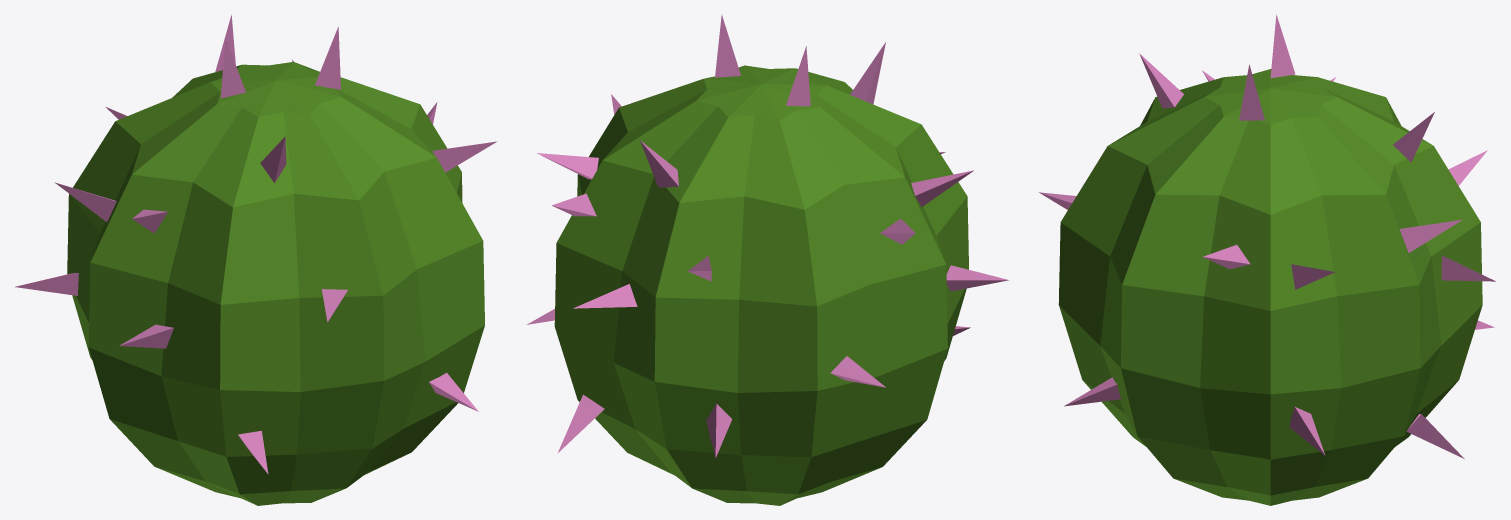
The model's file is Cactus_15_B.fbx.
3 renders of one model, left to right at view 1: azimuth 30°, elevation 25°; view 2: azimuth 150°, elevation 25°; view 3: azimuth 270°, elevation 25°, orthographic. The views are drawn at different scales.
Visible parts, largest first — view 1: Cactus_15_B; view 2: Cactus_15_B; view 3: Cactus_15_B.
Part boxes in pixels (<box>): Cactus_15_B: <box>15,15,497,505</box>; Cactus_15_B: <box>526,14,1009,505</box>; Cactus_15_B: <box>1039,14,1495,505</box>.
Bounding box in the file's own units: 108 × 116 × 106.
